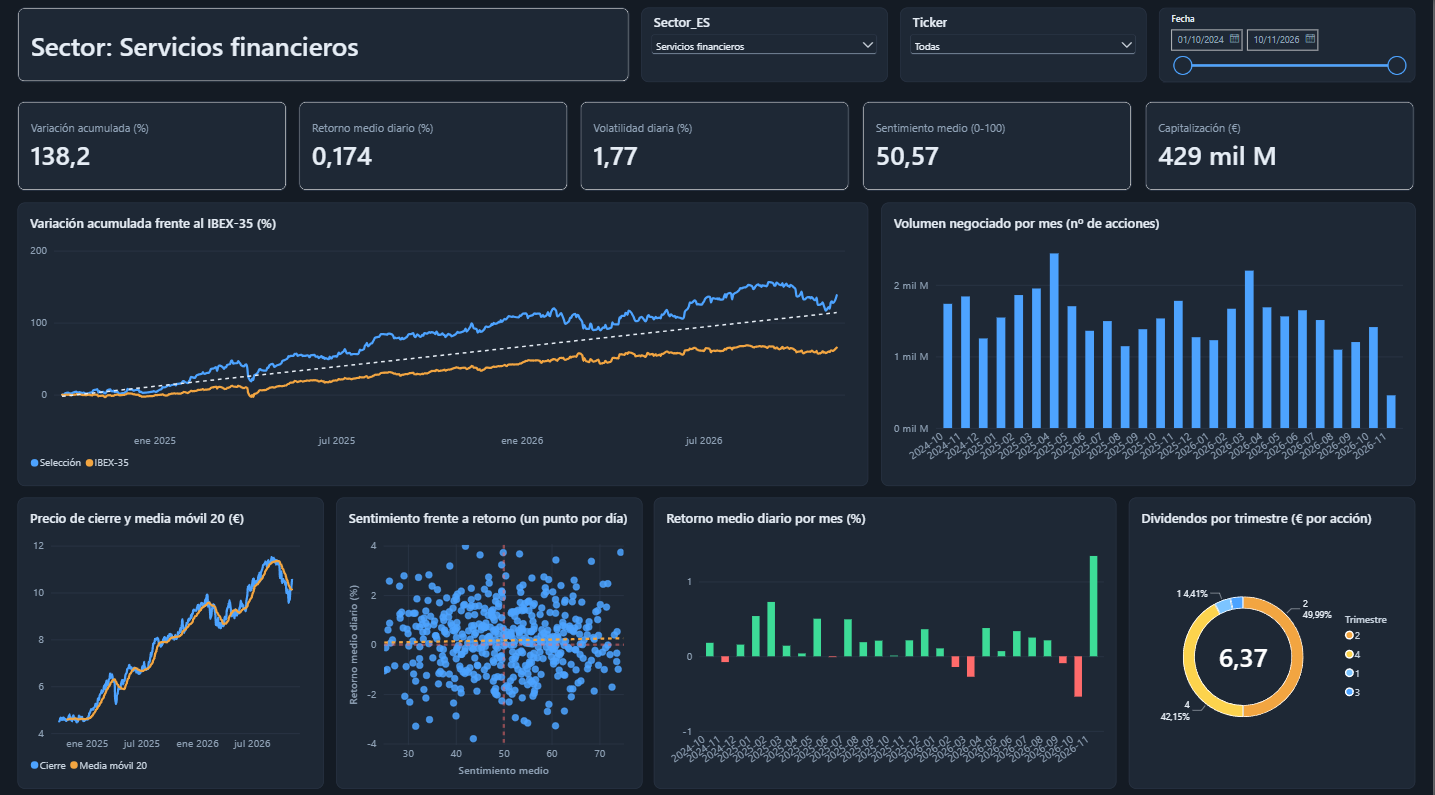

This screenshot's page, from the dashboard's own definition file:
{"tool":"powerbi","page":{"name":"Dashboard","canvas":[1920,1080],"ordinal":3},"visuals":[{"type":"slicer","fields":{"Values":["Empresa.Sector_ES"]},"box":[753.5,31.4,280.8,68],"z":0},{"type":"slicer","fields":{"Values":["Empresa.Ticker"]},"box":[1055.2,26.2,280.8,80.2],"z":1000},{"type":"slicer","fields":{"Values":["Fecha.Fecha"]},"box":[1360.5,19.2,280.8,95.9],"z":2000},{"type":"cardVisual","fields":{"Data":["Hechos.Variacion Acumulada"]},"box":[36.6,115.1,218,174.4],"z":3000},{"type":"cardVisual","fields":{"Data":["Hechos.Retorno Medio Diario"]},"box":[375,115.1,218,174.4],"z":4000},{"type":"cardVisual","fields":{"Data":["Hechos.Volatilidad Diaria"]},"box":[741.3,115.1,218,174.4],"z":5000},{"type":"cardVisual","fields":{"Data":["Hechos.Sentimiento Medio"]},"box":[1088.4,115.1,218,174.4],"z":6000},{"type":"cardVisual","fields":{"Data":["Hechos.Capitalizacion Total"]},"box":[1447.7,115.1,218,174.4],"z":7000},{"type":"lineChart","fields":{"Category":["Fecha.Fecha"],"Y":["Hechos.Var Acum Seleccion","Hechos.Var Acum IBEX"]},"box":[43.6,314,1058.7,376.7],"z":8000},{"type":"clusteredColumnChart","fields":{"Category":["Fecha.AnioMes"],"Y":["Sum(Hechos.Volume)"]},"box":[1133.7,314,736,376.7],"z":9000},{"type":"lineChart","fields":{"Category":["Fecha.Fecha"],"Y":["Avg(Hechos.Close)","Avg(Hechos.Media_Movil_20)"]},"box":[66.3,711.6,395.9,322.7],"z":10000},{"type":"scatterChart","fields":{"Category":["Fecha.Fecha"],"X":["Hechos.Sentimiento Medio"],"Y":["Hechos.Retorno Medio Diario"]},"box":[462.2,711.6,444.8,322.7],"z":11000},{"type":"clusteredColumnChart","fields":{"Category":["Fecha.AnioMes"],"Y":["Hechos.Retorno Medio Diario"]},"box":[907,711.6,610.5,322.7],"z":12000},{"type":"donutChart","fields":{"Category":["Fecha.Trimestre"],"Y":["Sum(Hechos.Dividends)"]},"box":[1517.4,711.6,385.5,322.7],"z":13000},{"type":"cardVisual","fields":{"Data":["Hechos.Titulo Dashboard"]},"box":[66.3,19.2,556.4,75],"z":13001}]}

Visuals, with their boxes in screenshot pixels (x1, y1, x2, y2), scaled from the page's 1920x1080 canvas onto the 1435x795 screenshot:
slicer - Empresa.Sector_ES: box(563, 23, 773, 73)
slicer - Empresa.Ticker: box(789, 19, 999, 78)
slicer - Fecha.Fecha: box(1017, 14, 1227, 85)
cardVisual - Hechos.Variacion Acumulada: box(27, 85, 190, 213)
cardVisual - Hechos.Retorno Medio Diario: box(280, 85, 443, 213)
cardVisual - Hechos.Volatilidad Diaria: box(554, 85, 717, 213)
cardVisual - Hechos.Sentimiento Medio: box(813, 85, 976, 213)
cardVisual - Hechos.Capitalizacion Total: box(1082, 85, 1245, 213)
lineChart - Fecha.Fecha x Hechos.Var Acum Seleccion: box(33, 231, 824, 508)
clusteredColumnChart - Fecha.AnioMes x Sum(Hechos.Volume): box(847, 231, 1397, 508)
lineChart - Fecha.Fecha x Avg(Hechos.Close): box(50, 524, 345, 761)
scatterChart - Fecha.Fecha x Hechos.Sentimiento Medio: box(345, 524, 678, 761)
clusteredColumnChart - Fecha.AnioMes x Hechos.Retorno Medio Diario: box(678, 524, 1134, 761)
donutChart - Fecha.Trimestre x Sum(Hechos.Dividends): box(1134, 524, 1422, 761)
cardVisual - Hechos.Titulo Dashboard: box(50, 14, 465, 69)
